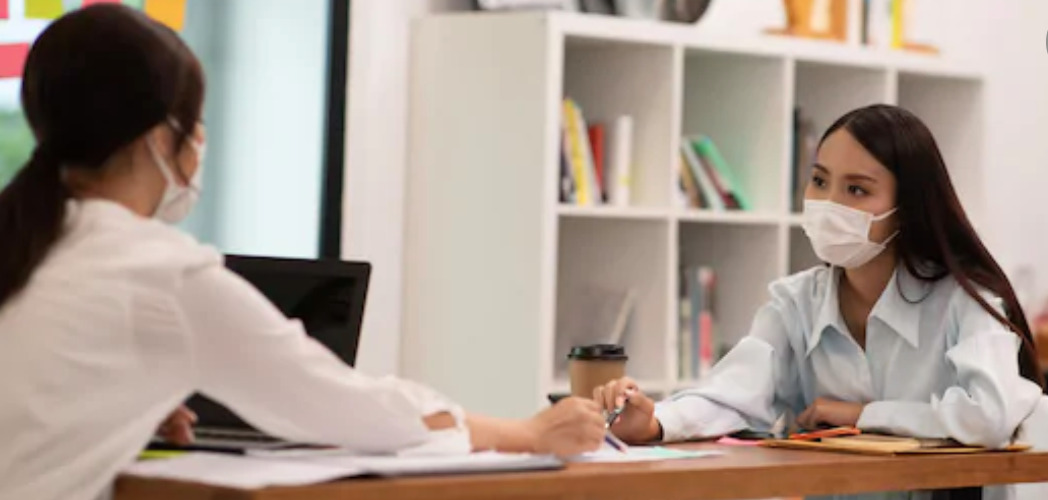Caution: (1, 4, 1028, 472)
